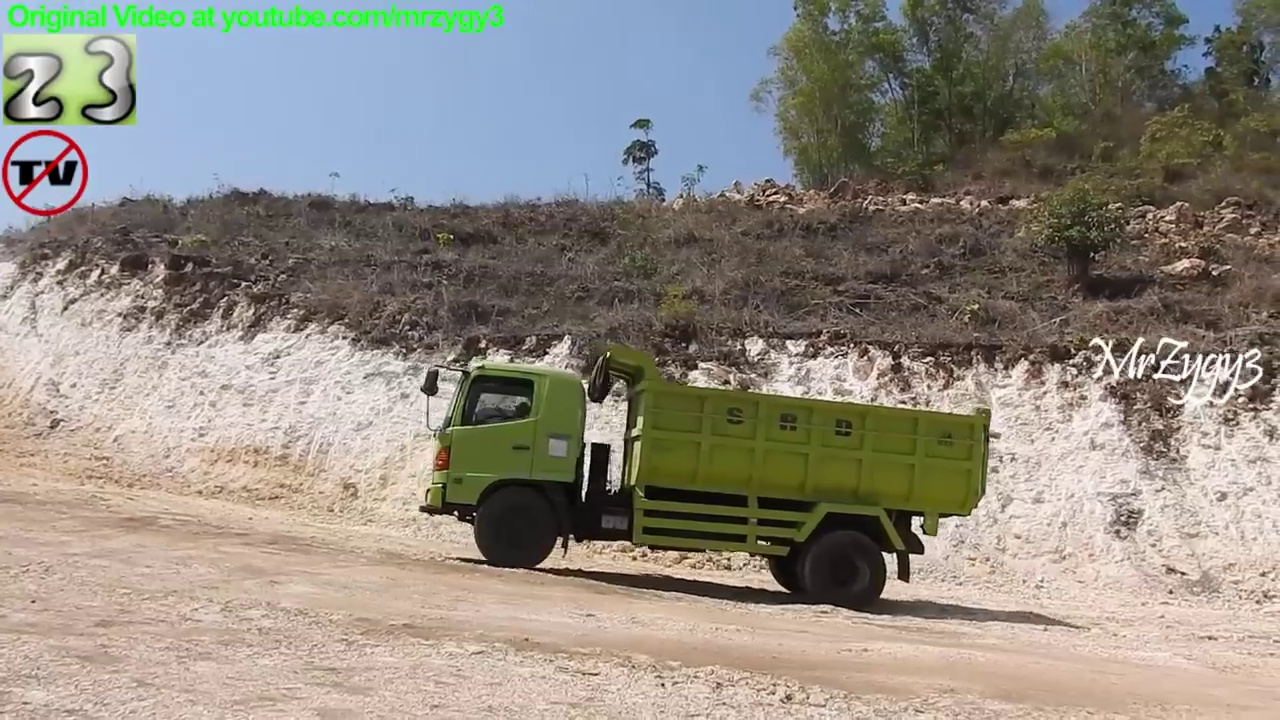truck: (413, 341, 998, 614)
